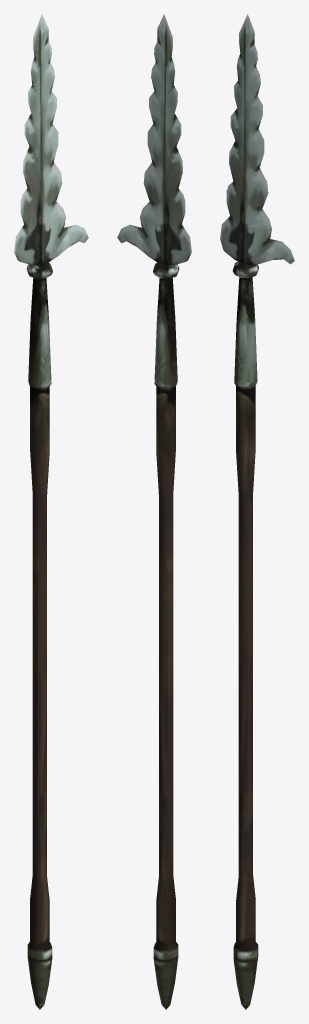
File: weapon-petaled-spear.glb
3 renders of one model, left to right at view 1: azimuth 30°, elevation 25°; view 2: azimuth 150°, elevation 25°; view 3: azimuth 330°, elevation 25°, orthographic.
Parts seen in each view (by area): view 1: spearI_MDL_q; view 2: spearI_MDL_q; view 3: spearI_MDL_q.
Boxes of the visible parts, left/top/right/bottom form: spearI_MDL_q: left=14, top=14, right=88, bottom=1009; spearI_MDL_q: left=117, top=14, right=191, bottom=1009; spearI_MDL_q: left=220, top=14, right=294, bottom=1009.
Size of the model in its own units: 0.2492 by 3.17 by 0.0793.
Materials: 1 (1 with a texture image).
